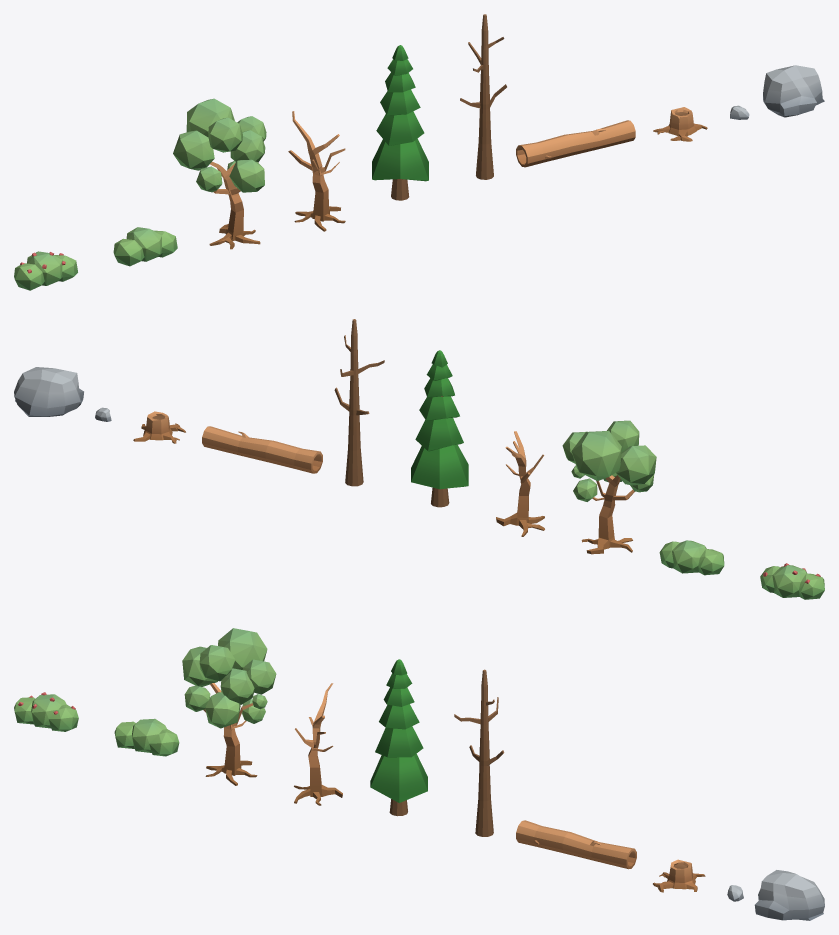
The model's file is LowPolyNaturePack.fbx.
The picture shows the model from 3 angles, top to bottom: view 1: azimuth 30°, elevation 25°; view 2: azimuth 150°, elevation 25°; view 3: azimuth 330°, elevation 25°; orthographic projection.
Parts seen in each view (by area): view 1: Base Tree.003, Spruce, Fallen tree, Rock Large, Naked Spruse, Naked Tree, Bush Berry, Bush, Base Tree, Stump; view 2: Spruce, Base Tree.003, Rock Large, Fallen tree, Naked Spruse, Bush Berry, Bush, Base Tree, Naked Tree, Stump; view 3: Base Tree.003, Spruce, Rock Large, Fallen tree, Naked Spruse, Bush Berry, Bush, Naked Tree, Base Tree, Stump.
Part boxes in pixels (x1=…): Base Tree.003: x1=173, y1=98, x2=266, y2=192; Spruce: x1=372, y1=45, x2=428, y2=200; Fallen tree: x1=516, y1=120, x2=635, y2=167; Rock Large: x1=763, y1=65, x2=824, y2=117; Naked Spruse: x1=460, y1=14, x2=506, y2=179; Naked Tree: x1=288, y1=111, x2=345, y2=231; Bush Berry: x1=14, y1=251, x2=77, y2=290; Bush: x1=113, y1=227, x2=177, y2=266; Base Tree: x1=209, y1=161, x2=260, y2=249; Stump: x1=653, y1=107, x2=707, y2=141; Spruce: x1=411, y1=350, x2=468, y2=507; Base Tree.003: x1=562, y1=420, x2=656, y2=501; Rock Large: x1=14, y1=367, x2=83, y2=416; Fallen tree: x1=202, y1=426, x2=322, y2=473; Naked Spruse: x1=334, y1=319, x2=384, y2=486; Bush Berry: x1=760, y1=563, x2=824, y2=599; Bush: x1=659, y1=540, x2=724, y2=575; Base Tree: x1=581, y1=475, x2=634, y2=554; Naked Tree: x1=496, y1=431, x2=544, y2=536; Stump: x1=133, y1=411, x2=185, y2=443; Base Tree.003: x1=182, y1=628, x2=276, y2=728; Spruce: x1=370, y1=659, x2=427, y2=816; Rock Large: x1=754, y1=870, x2=824, y2=920; Fallen tree: x1=516, y1=820, x2=636, y2=869; Naked Spruse: x1=454, y1=669, x2=504, y2=836; Bush Berry: x1=14, y1=692, x2=78, y2=731; Bush: x1=114, y1=718, x2=179, y2=756; Naked Tree: x1=294, y1=683, x2=342, y2=805; Base Tree: x1=203, y1=683, x2=257, y2=785; Stump: x1=653, y1=859, x2=705, y2=892.
Size of the model in its own units: 10.91 by 101 by 19.63.
